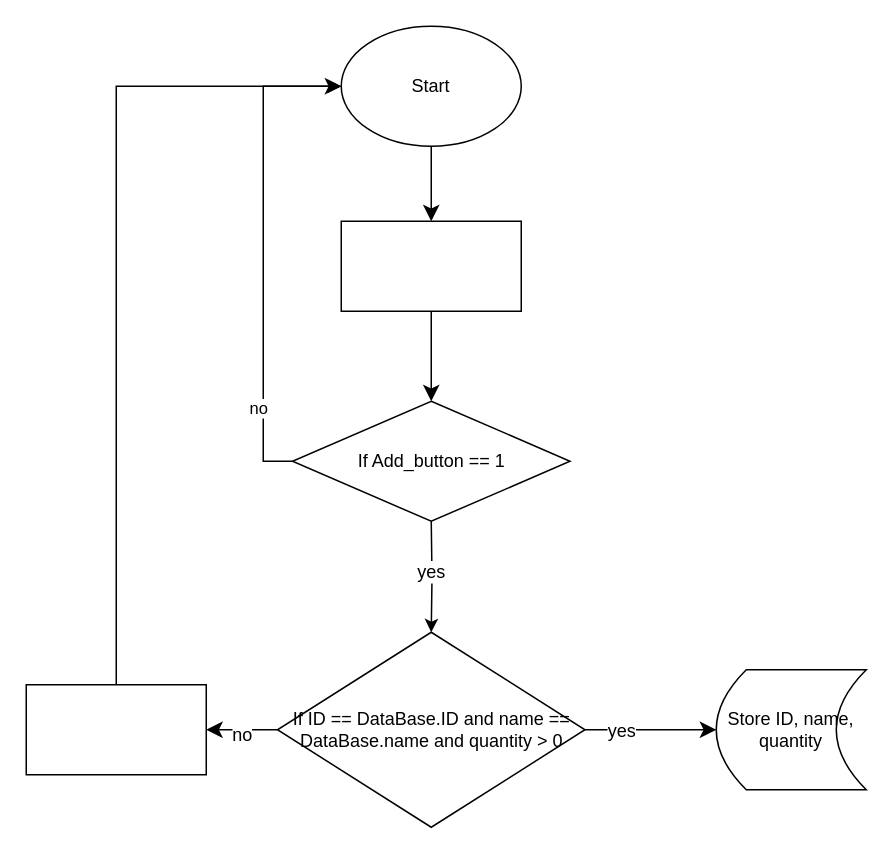
Image size: 893x854. Some labels were removed from this diagram. Each missing label, with the centre of its shape:
"Input ID, name, quanity" goes at (430,265).
"show error message" goes at (115,729).
